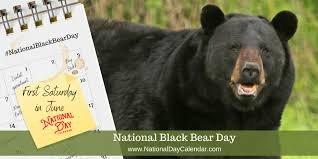bear: (86, 4, 298, 159)
